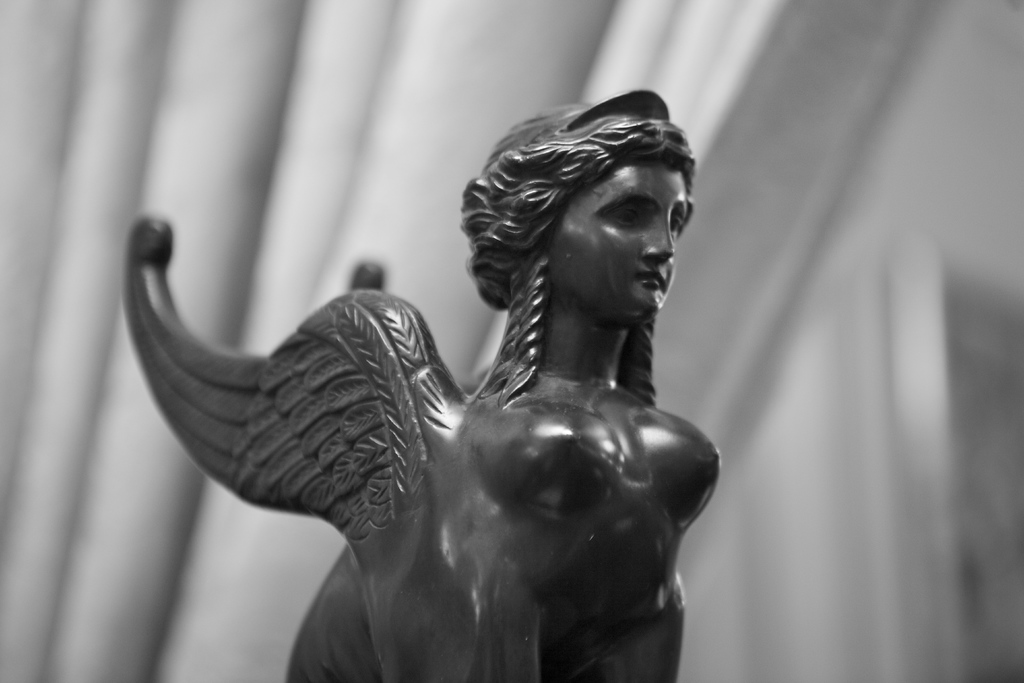Human-face: (552, 169, 696, 302)
